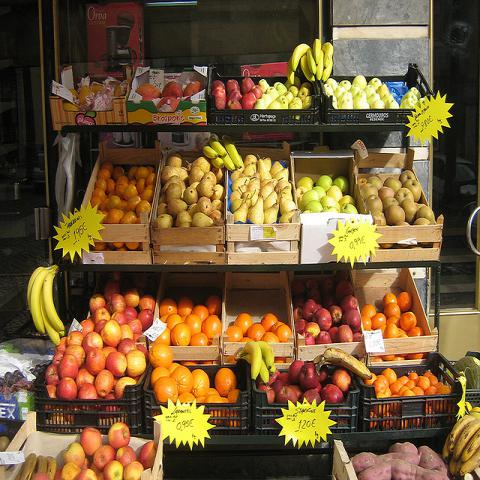car: (434, 155, 478, 205)
